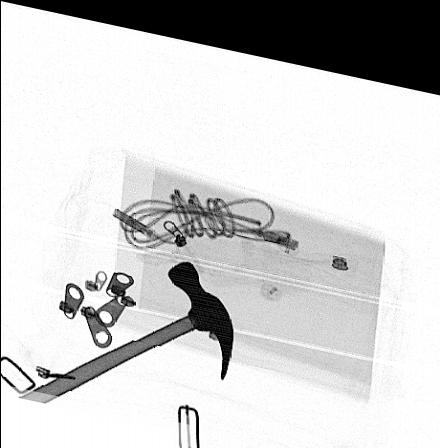Hammer: (18, 252, 234, 400)
